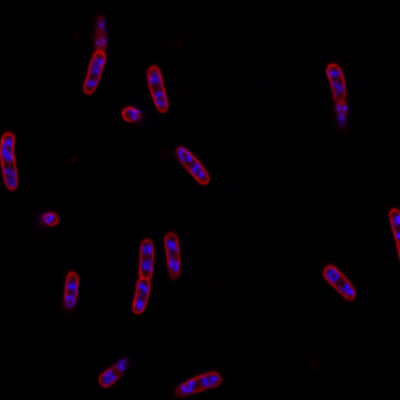Control: (131, 236, 157, 315), (171, 144, 212, 186), (318, 262, 359, 303), (145, 63, 170, 115), (0, 132, 20, 190), (82, 50, 107, 95)
Oblique: (325, 61, 350, 130), (171, 369, 224, 400), (95, 357, 131, 389), (163, 231, 183, 282), (60, 267, 81, 313), (40, 209, 61, 229), (120, 106, 143, 123)
